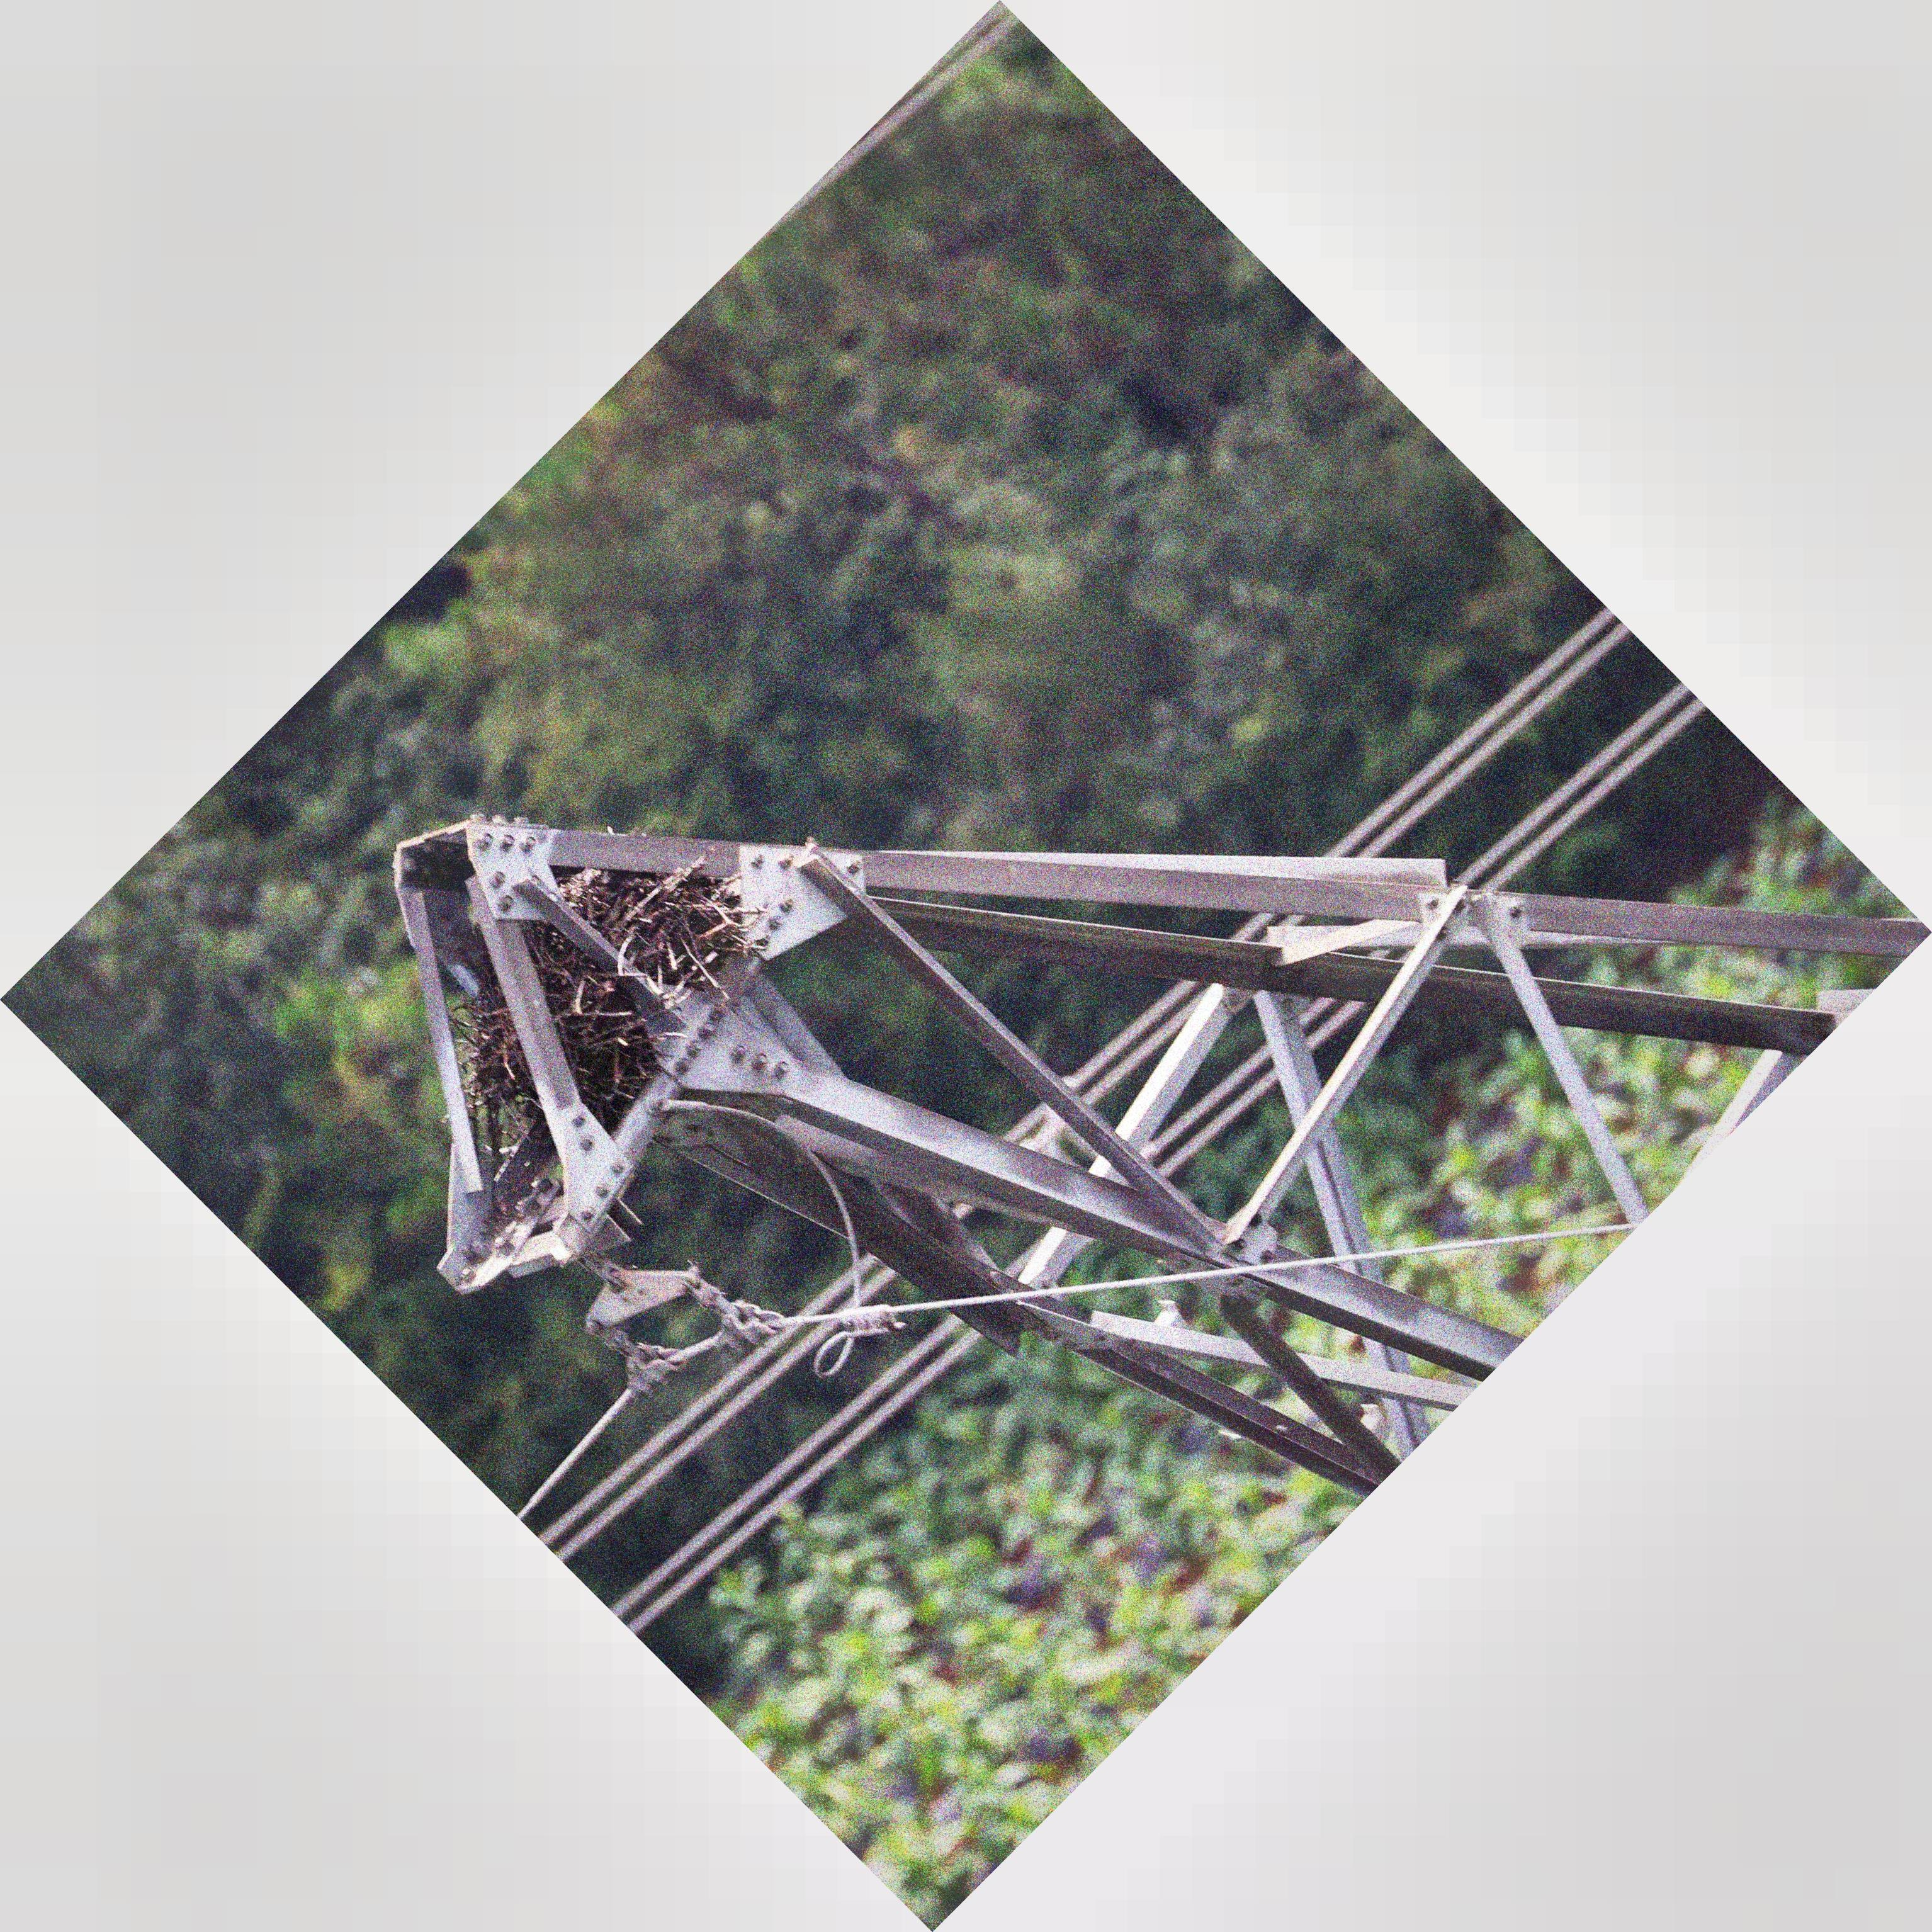niaowo: (402, 828, 747, 1127)
